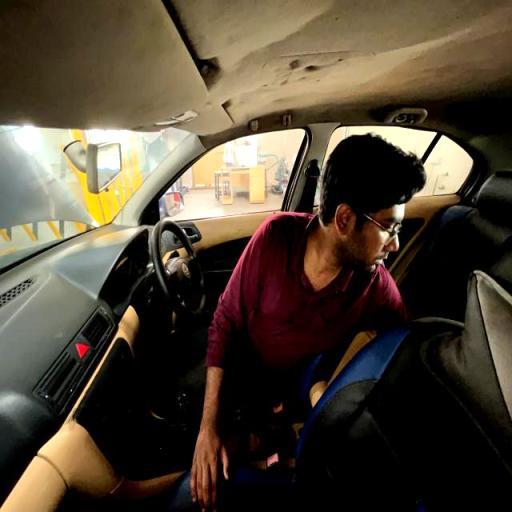Reaching_behind: (170, 129, 428, 417)
